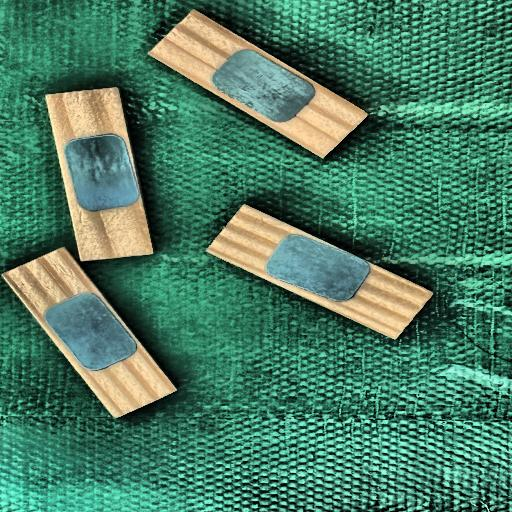objects: (0, 234, 178, 432), (205, 199, 433, 347), (44, 80, 155, 269)
